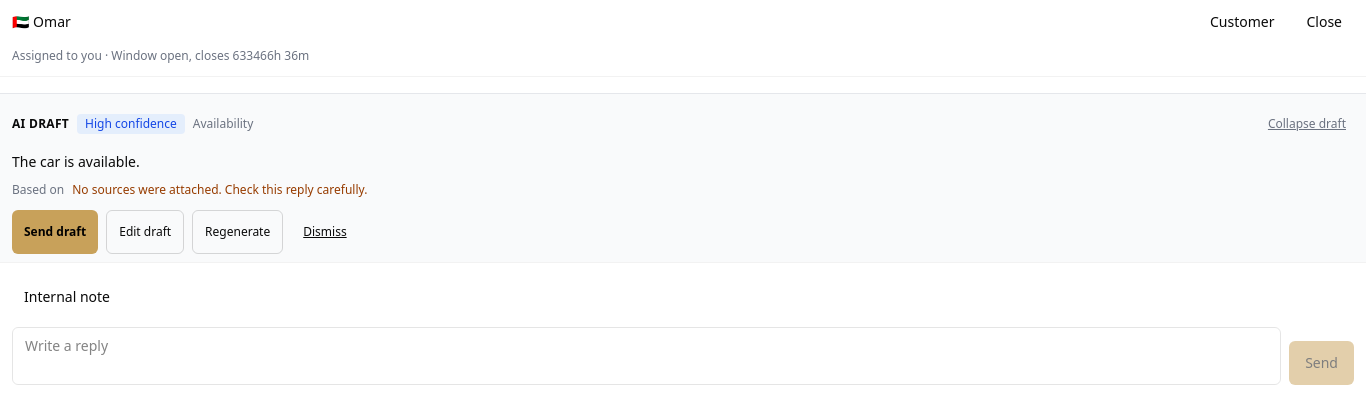
Test: copilot in the thread › prefills Edit while keeping the suggestion identity
The width and height of the screenshot is (1366, 402).
Click the button "Edit draft": (145, 232) [106,210,184,254]
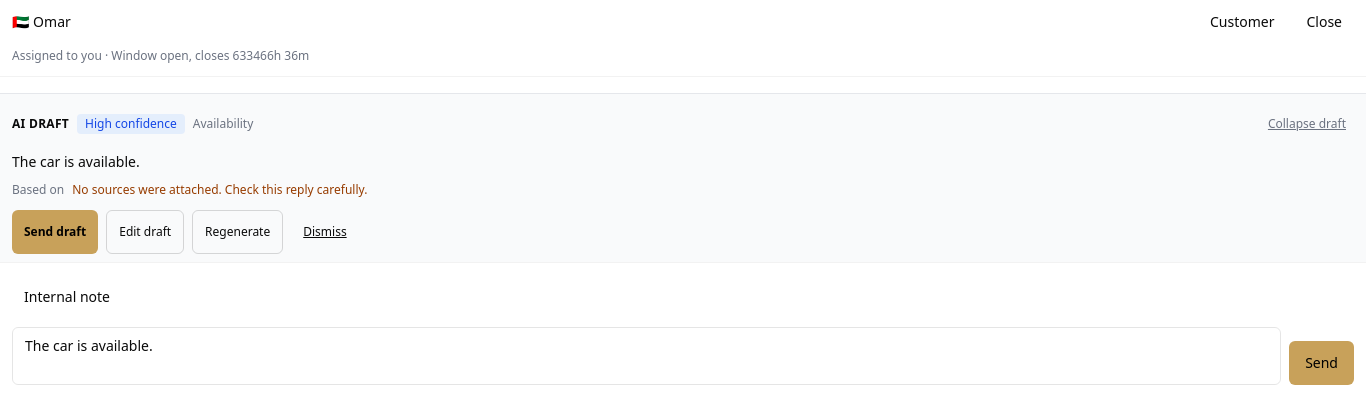
Now the text box named "Write a reply" holds "The car is available.", box [12,327,1281,385]
